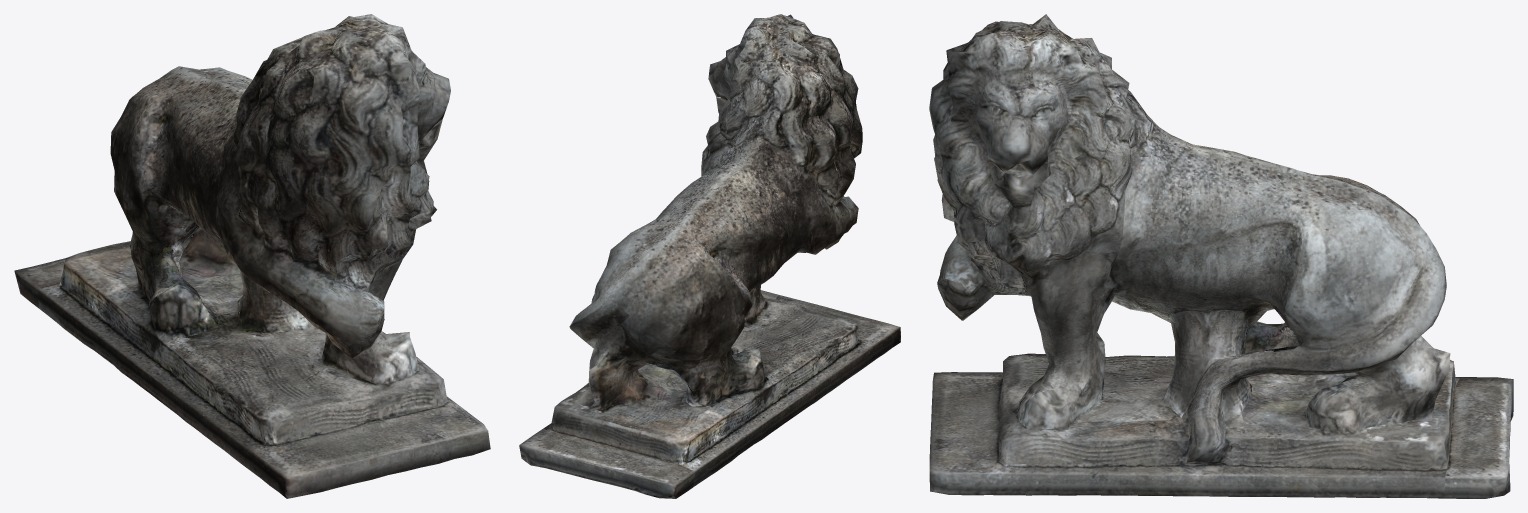
Rendered from lion.glb.
3 renders of one model, left to right at view 1: azimuth 30°, elevation 25°; view 2: azimuth 150°, elevation 25°; view 3: azimuth 270°, elevation 25°, orthographic. The views are drawn at different scales.
Visible parts, largest first — view 1: Object_2; view 2: Object_2; view 3: Object_2.
Boxes of the visible parts, x1,y1,x2,y2 form: Object_2: [14, 14, 490, 498]; Object_2: [519, 14, 900, 498]; Object_2: [929, 14, 1513, 498].
Size of the model in its own units: 26.57 by 49.37 by 61.65.
Materials: 1 (1 with a texture image).
